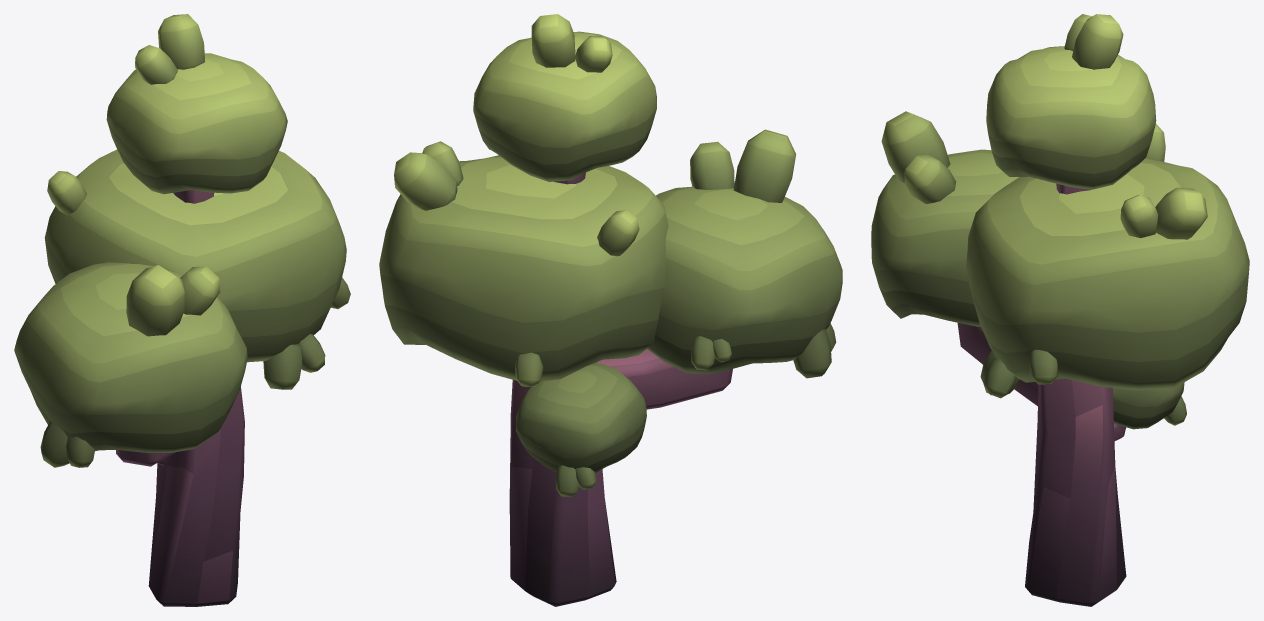
The model's file is grassland_tree_col1_4.fbx.
The picture shows the model from 3 angles, left to right: view 1: azimuth 30°, elevation 25°; view 2: azimuth 150°, elevation 25°; view 3: azimuth 270°, elevation 25°; orthographic projection. The views are drawn at different scales.
Parts seen in each view (by area): view 1: grassland_tree_col1_4; view 2: grassland_tree_col1_4; view 3: grassland_tree_col1_4.
Part boxes in pixels (box(x1,y1,x2,y2)): grassland_tree_col1_4: box(14, 14, 350, 606); grassland_tree_col1_4: box(379, 14, 842, 606); grassland_tree_col1_4: box(871, 14, 1249, 606).
Bounding box in the file's own units: 663 × 1031 × 618.
